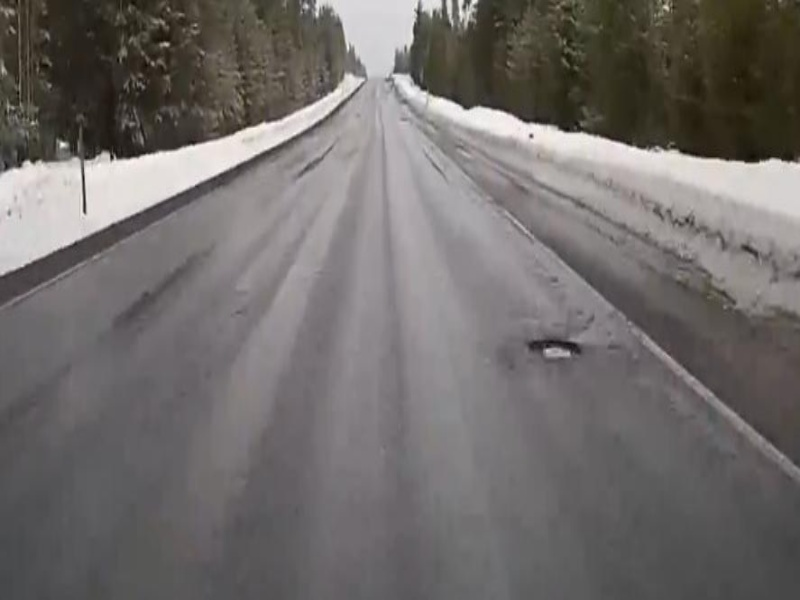pothole: (526, 336, 582, 364)
